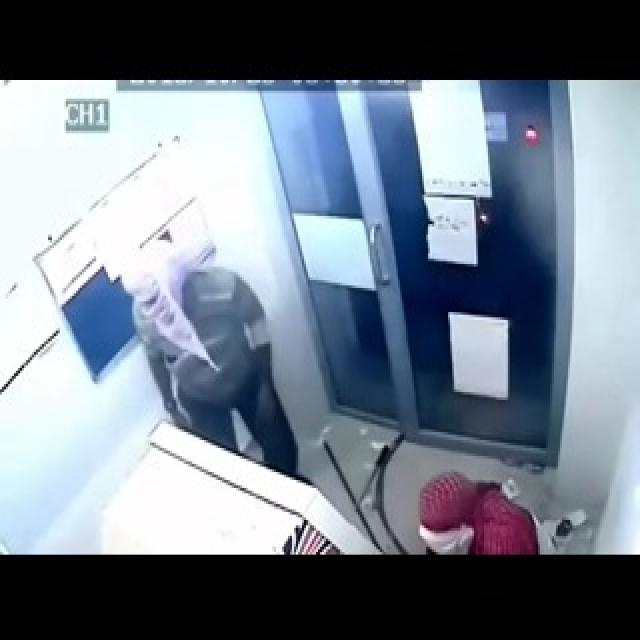thief: (136, 240, 301, 464)
